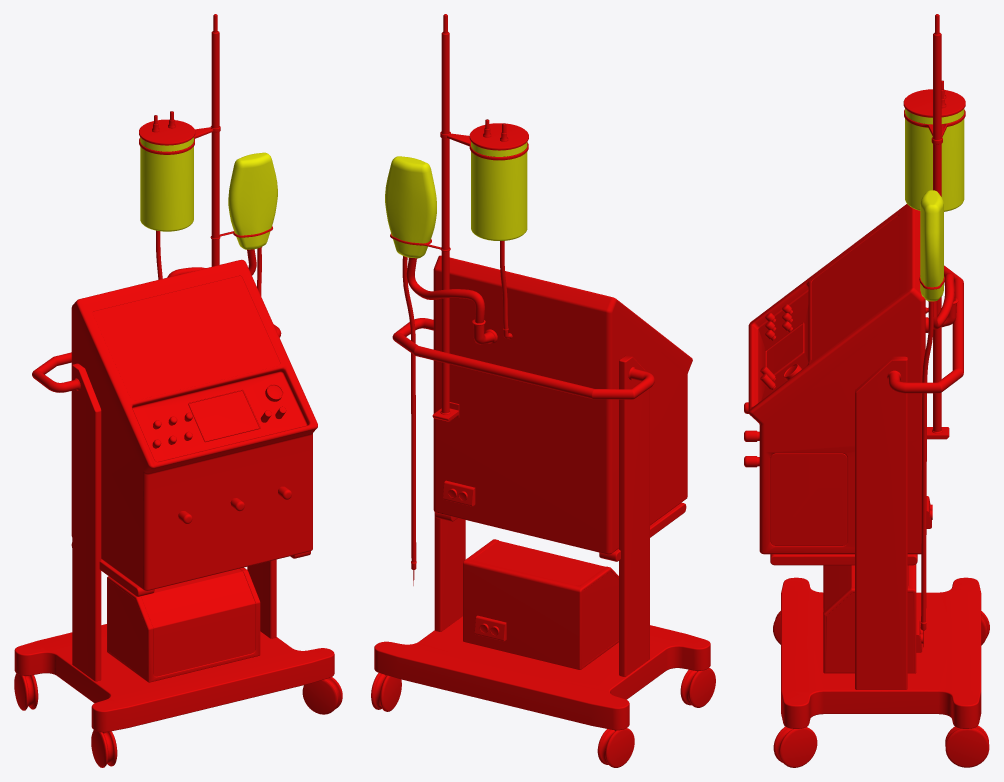
Rendered from Equipment_18.fbx.
The picture shows the model from 3 angles, left to right: view 1: azimuth 30°, elevation 25°; view 2: azimuth 150°, elevation 25°; view 3: azimuth 270°, elevation 25°; orthographic projection. The views are drawn at different scales.
Parts seen in each view (by area): view 1: L3:polySurface809; view 2: L3:polySurface809; view 3: L3:polySurface809.
Part boxes in pixels (bbox=[...]): L3:polySurface809: bbox=[14, 14, 342, 767]; L3:polySurface809: bbox=[371, 14, 715, 767]; L3:polySurface809: bbox=[744, 14, 989, 767].
Size of the model in its own units: 99.99 by 258 by 79.
